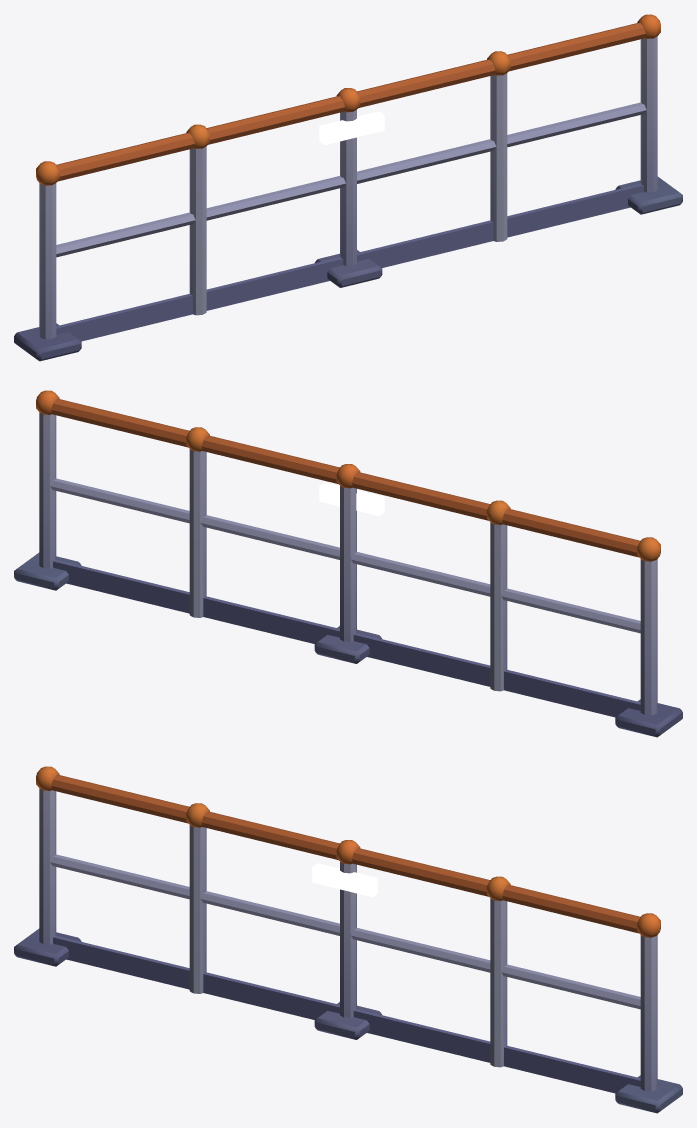
Rendered from hub_ruin_railing.glb.
The picture shows the model from 3 angles, top to bottom: view 1: azimuth 30°, elevation 25°; view 2: azimuth 150°, elevation 25°; view 3: azimuth 330°, elevation 25°; orthographic projection.
Parts seen in each view (by area): view 1: hub_ruin_railing; view 2: hub_ruin_railing; view 3: hub_ruin_railing.
Part boxes in pixels (x1,y1,x2,y2): hub_ruin_railing: (14,14,682,361); hub_ruin_railing: (14,390,682,737); hub_ruin_railing: (14,766,682,1113).
Size of the model in its own units: 4.3 by 1.19 by 0.3.
